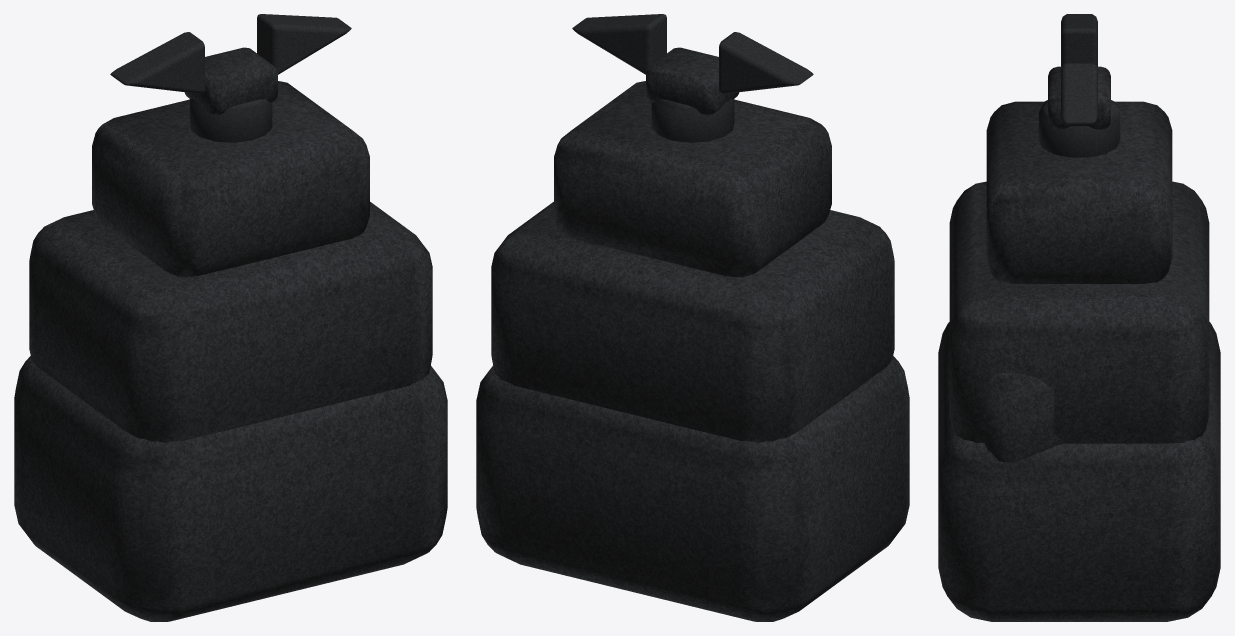
Rendered from asset_080_trash_bag_fp.glb.
3 views of the same model, side by side, from view 1: azimuth 30°, elevation 25°; view 2: azimuth 150°, elevation 25°; view 3: azimuth 270°, elevation 25° (orthographic). The views are drawn at different scales.
Visible parts, largest first — view 1: MESH_BagBase, MESH_BagBelly, MESH_BagShoulder, MESH_BagKnot, MESH_BagEarL, MESH_BagEarR, MESH_BagNeck; view 2: MESH_BagBase, MESH_BagBelly, MESH_BagShoulder, MESH_BagKnot, MESH_BagEarL, MESH_BagEarR, MESH_BagNeck; view 3: MESH_BagBase, MESH_BagBelly, MESH_BagShoulder, MESH_BagCrinkle, MESH_BagNeck, MESH_BagEarR, MESH_BagEarL, MESH_BagKnot.
Part boxes in pixels (x1,y1,x2,y2): MESH_BagBase: [14, 356, 447, 621]; MESH_BagBelly: [29, 202, 432, 442]; MESH_BagShoulder: [92, 81, 369, 277]; MESH_BagKnot: [184, 47, 277, 115]; MESH_BagEarL: [110, 32, 204, 93]; MESH_BagEarR: [257, 14, 351, 74]; MESH_BagNeck: [189, 98, 272, 142]; MESH_BagBase: [476, 356, 909, 621]; MESH_BagBelly: [491, 202, 894, 442]; MESH_BagShoulder: [554, 81, 831, 277]; MESH_BagKnot: [646, 47, 739, 115]; MESH_BagEarL: [719, 32, 813, 93]; MESH_BagEarR: [572, 14, 666, 74]; MESH_BagNeck: [651, 98, 734, 142]; MESH_BagBase: [938, 322, 1220, 621]; MESH_BagBelly: [949, 181, 1209, 443]; MESH_BagShoulder: [986, 101, 1172, 283]; MESH_BagCrinkle: [984, 372, 1064, 462]; MESH_BagNeck: [1038, 100, 1120, 157]; MESH_BagEarR: [1061, 63, 1097, 123]; MESH_BagEarL: [1061, 14, 1097, 66]; MESH_BagKnot: [1048, 66, 1110, 130].
Bounding box in the file's own units: 0.5 × 0.7658 × 0.38.
1 material, 1 textured.
